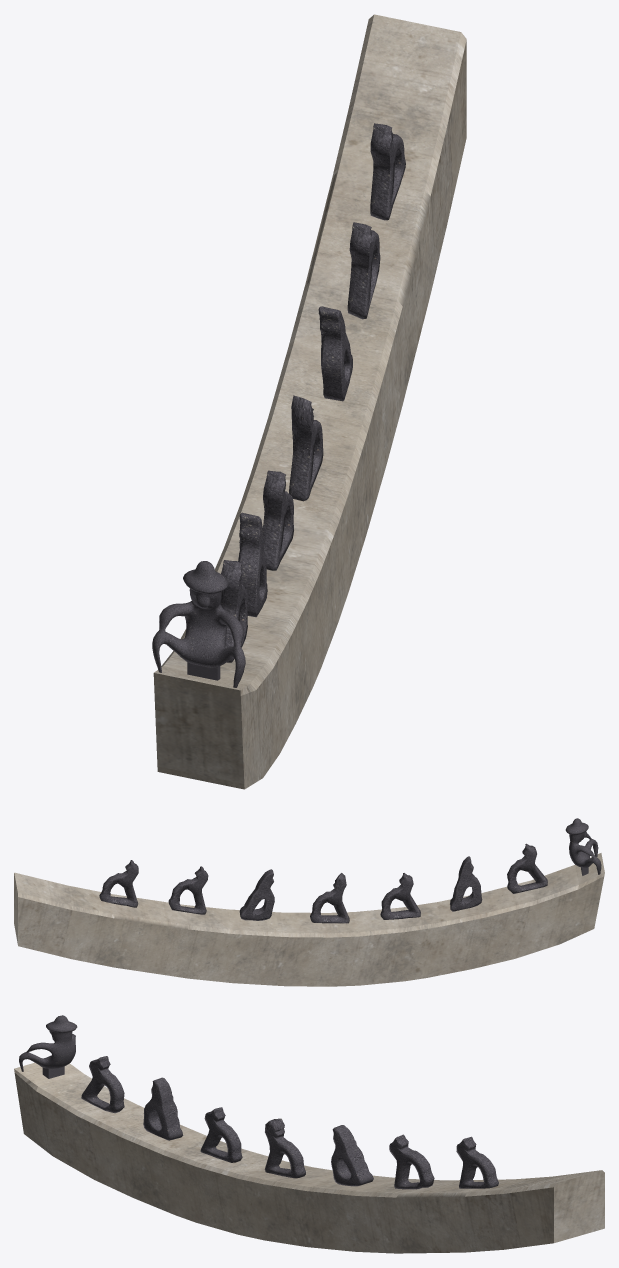
File: SM_R_BeamRoof_5.fbx
3 views of the same model, one above another, from view 1: azimuth 30°, elevation 25°; view 2: azimuth 150°, elevation 25°; view 3: azimuth 270°, elevation 25° (orthographic). The views are drawn at different scales.
Visible parts, largest first — view 1: SM_R_BeamRoof_5; view 2: SM_R_BeamRoof_5; view 3: SM_R_BeamRoof_5.
Boxes of the visible parts, box(x1,y1,x2,y2) form: SM_R_BeamRoof_5: box(152, 14, 466, 789); SM_R_BeamRoof_5: box(14, 818, 604, 986); SM_R_BeamRoof_5: box(14, 1015, 604, 1253).
Size of the model in its own units: 454 by 547 by 172.
2 materials, 2 textured.
